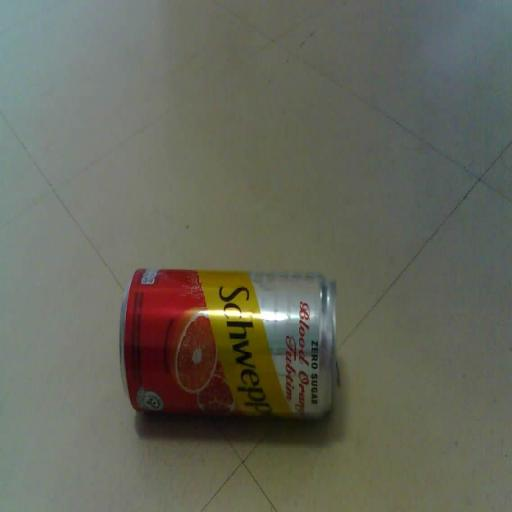canned: (100, 239, 348, 449)
